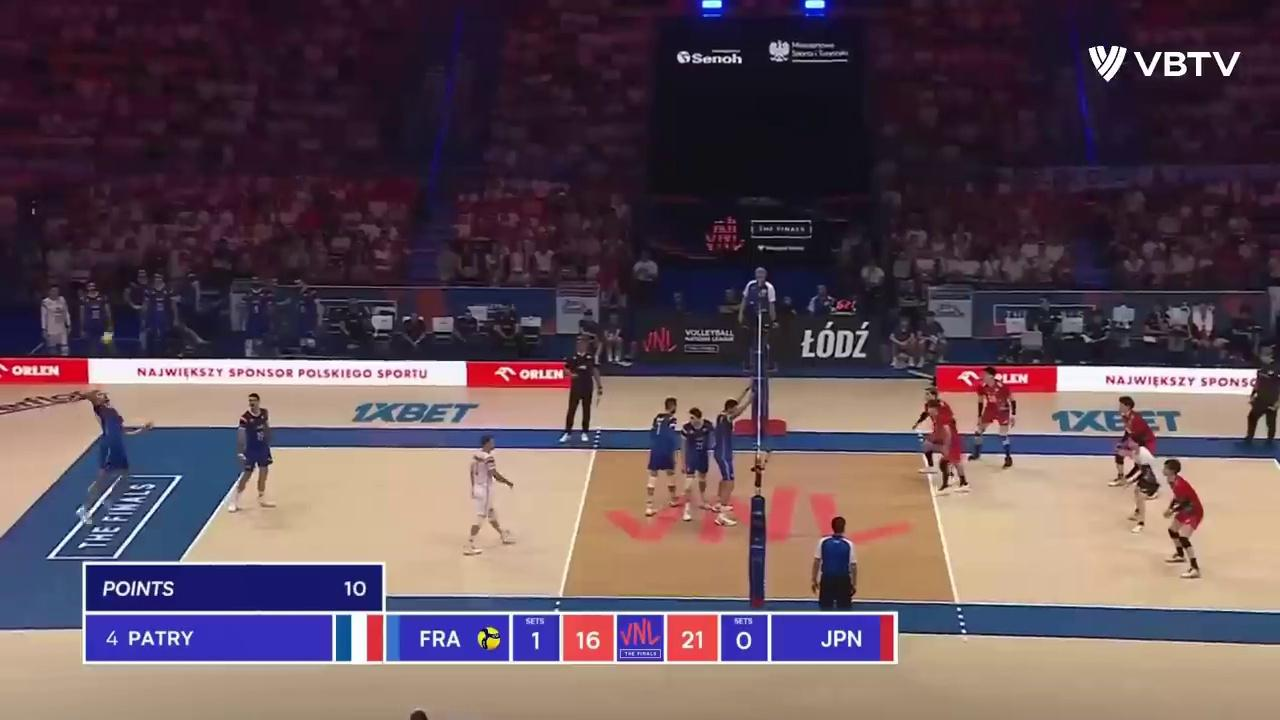ball: (98, 332, 115, 346)
